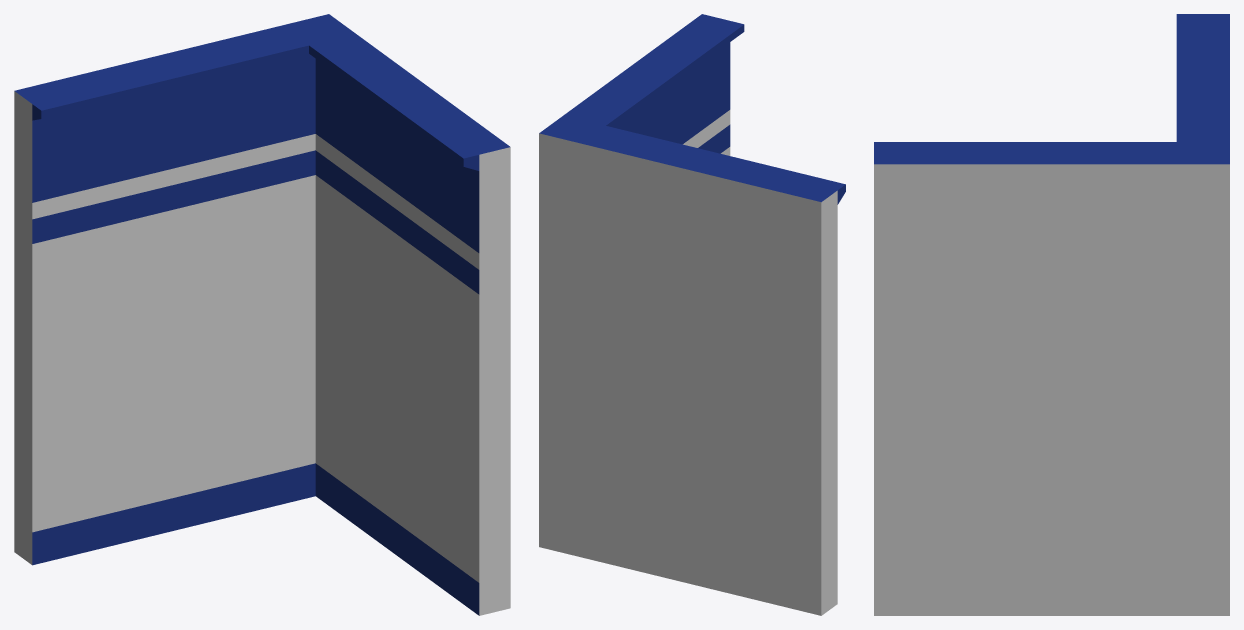
The model's file is wall_2_ext_corner_int.glb.
3 views of the same model, side by side, from view 1: azimuth 30°, elevation 25°; view 2: azimuth 150°, elevation 25°; view 3: azimuth 270°, elevation 25° (orthographic). The views are drawn at different scales.
Parts seen in each view (by area): view 1: Cube; view 2: Cube; view 3: Cube.
Part boxes in pixels (left/top/right/bottom): Cube: left=14, top=14, right=510, bottom=615; Cube: left=539, top=14, right=845, bottom=615; Cube: left=874, top=14, right=1229, bottom=615.
Bounding box in the file's own units: 2 × 2.8 × 2.
